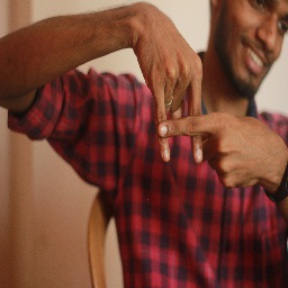H: (138, 59, 229, 166)
